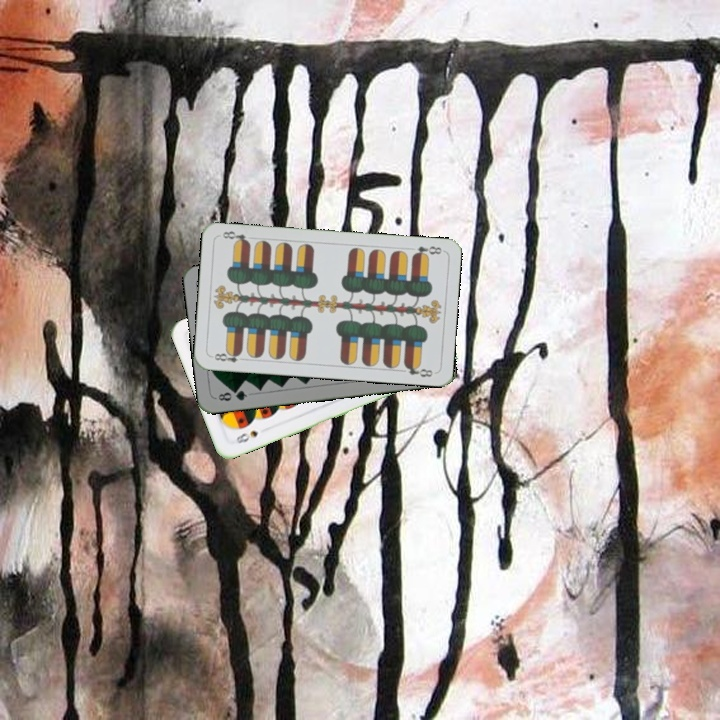E8: (208, 347, 249, 365), (409, 242, 444, 260)
G8: (212, 386, 249, 404)
S8: (232, 426, 260, 446)
